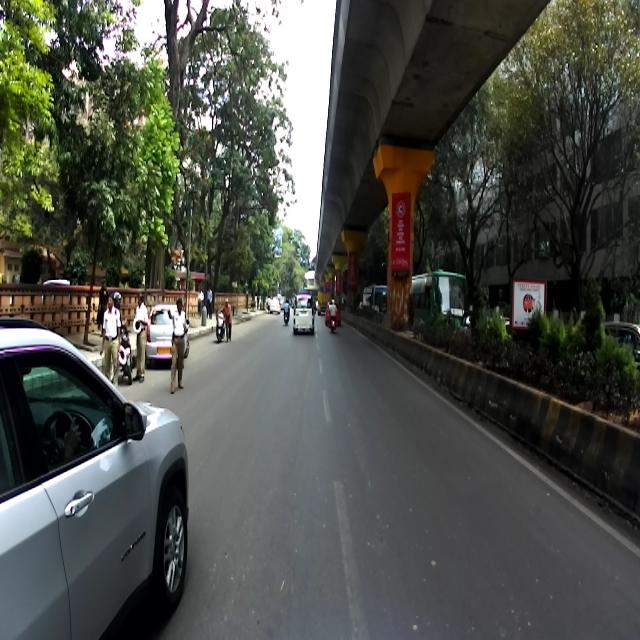Car_JEEP: (0, 317, 188, 639)
